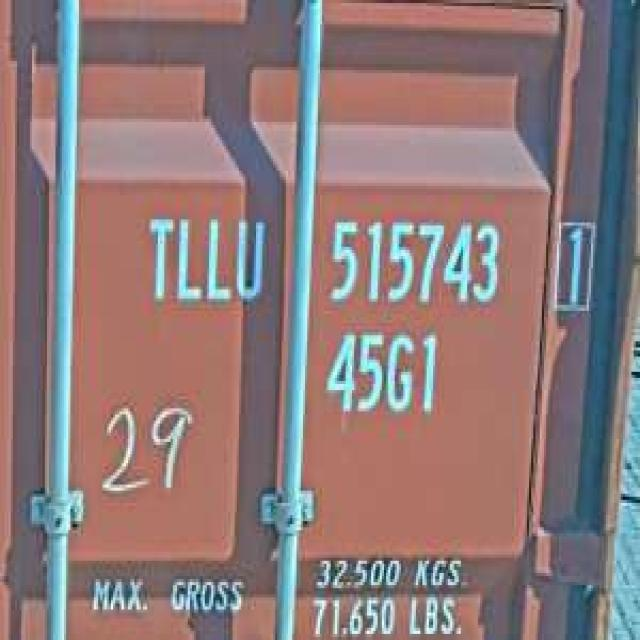dv: (548, 210, 600, 317)
owner: (138, 201, 268, 314)
serial: (322, 207, 508, 317)
size: (320, 323, 444, 427)
